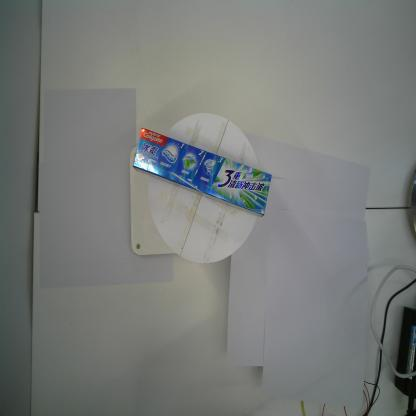Personal Hygiene: (132, 128, 272, 218)
